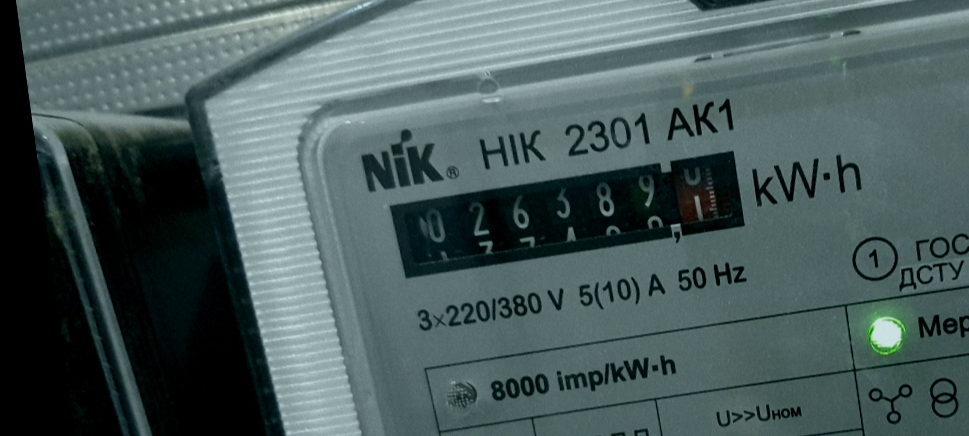0: (420, 203, 448, 245), (681, 164, 702, 187)
1: (689, 190, 706, 223)
2: (464, 197, 492, 238)
3: (550, 184, 572, 221)
6: (507, 190, 530, 231)
8: (592, 178, 617, 218)
9: (635, 172, 657, 208)
screen: (372, 136, 762, 292)
